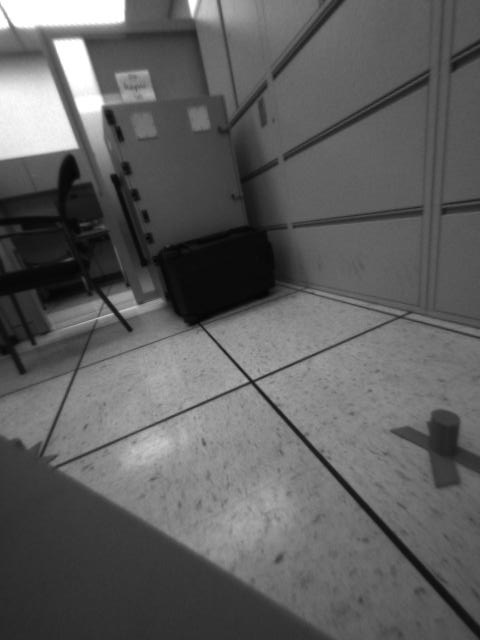X: (388, 409, 480, 489)
